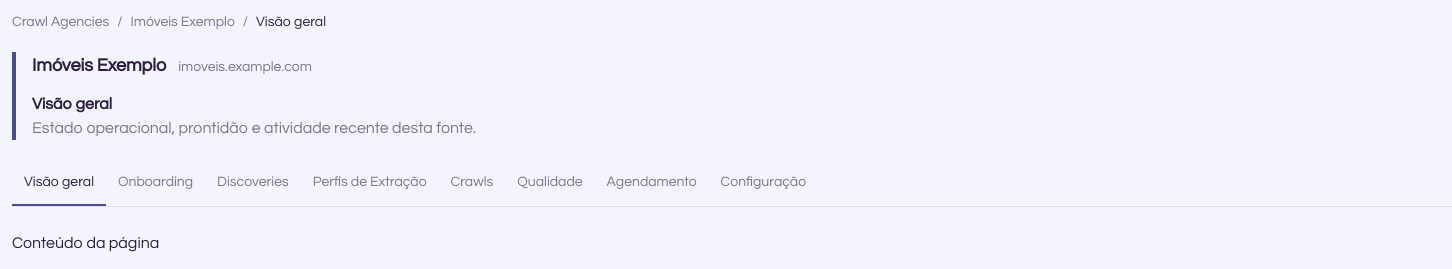
Scenario: CrawlAgencyLayoutShell › updates area and optimistic active tab immediately on tab click
Click the link "Onboarding": (156, 182) [118, 175, 193, 189]
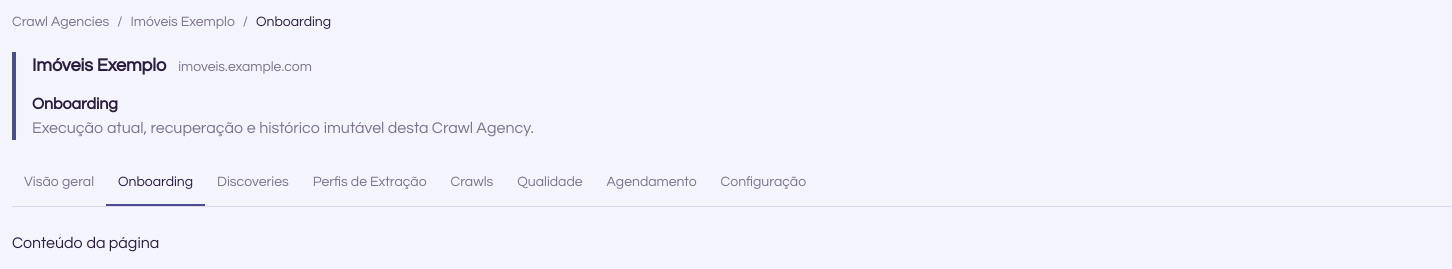
expect the heading "Onboarding" is shown: met, box [32, 96, 118, 112]
expect the text "Execução atual, recuperação e histórico imutável desta Crawl Agency." is shown: met, box [32, 120, 534, 136]
